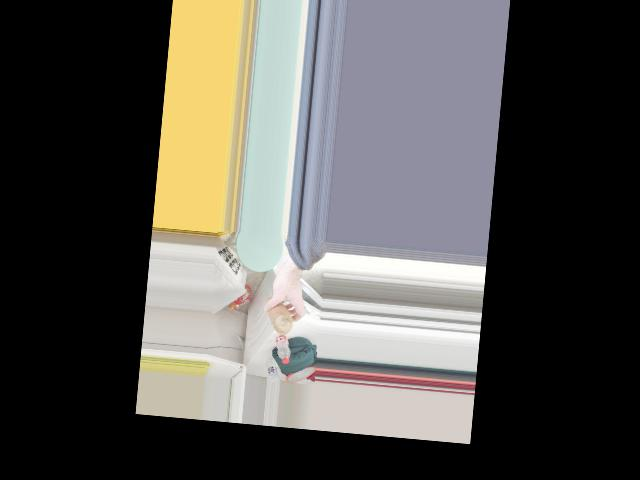sweet_potato: (260, 291, 296, 333)
